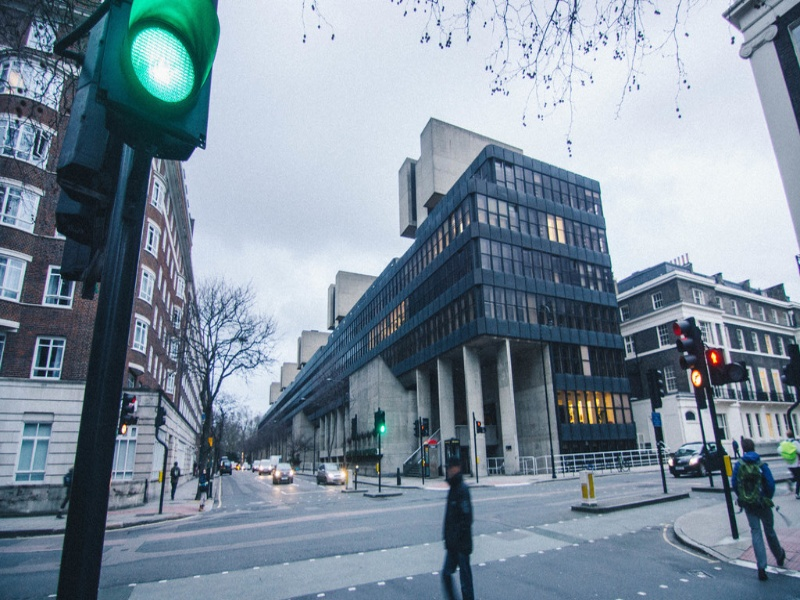green_light: (101, 3, 238, 107)
